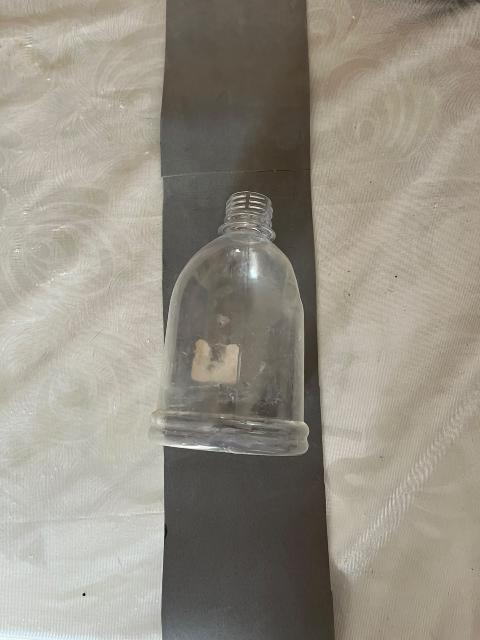PET: (132, 159, 339, 481)
